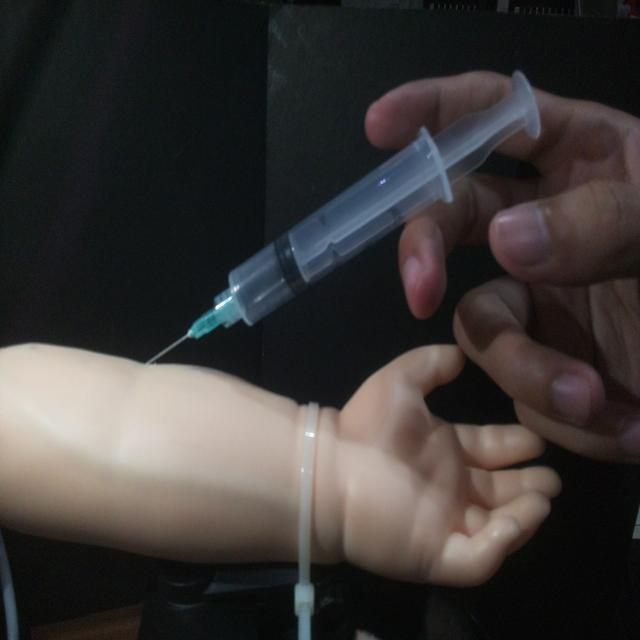27deg: (141, 65, 544, 368)
